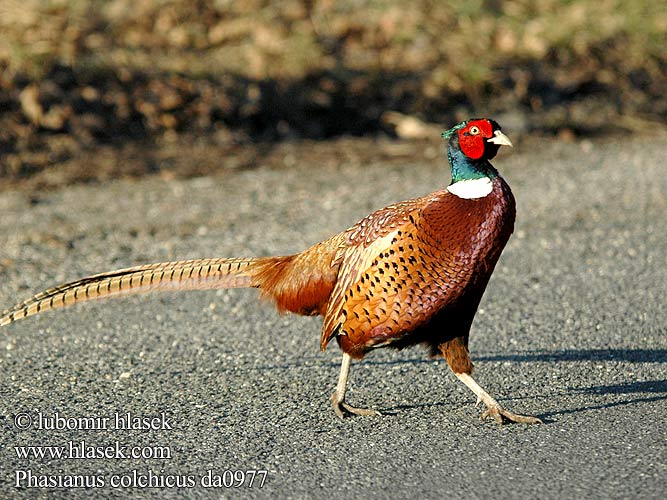pheasant: (31, 116, 550, 430)
